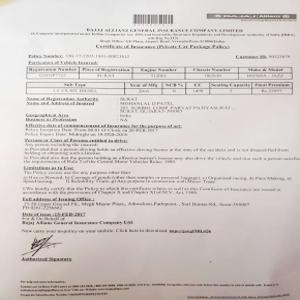image: (206, 11, 297, 23)
table: (27, 64, 293, 80), (25, 81, 295, 96)
text: (23, 166, 300, 200), (22, 195, 255, 232), (29, 96, 238, 137), (26, 137, 300, 168), (16, 278, 295, 299)
